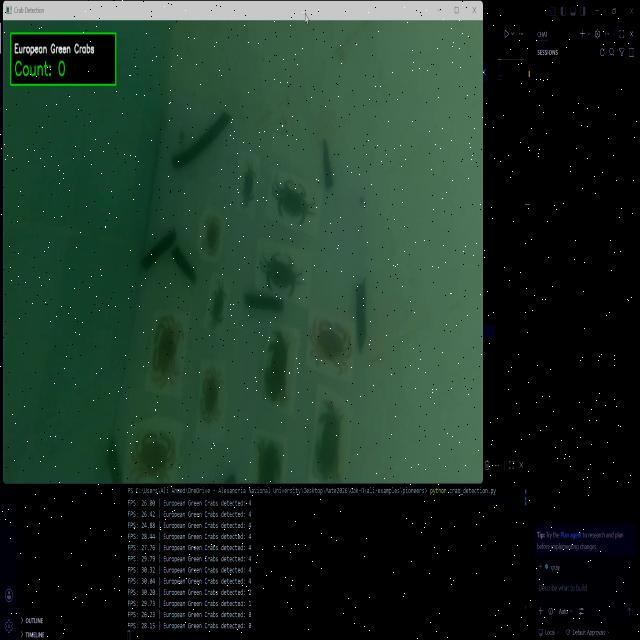European_Green_Crab: (270, 173, 317, 230), (258, 245, 303, 301), (208, 278, 229, 331), (237, 158, 256, 209)
